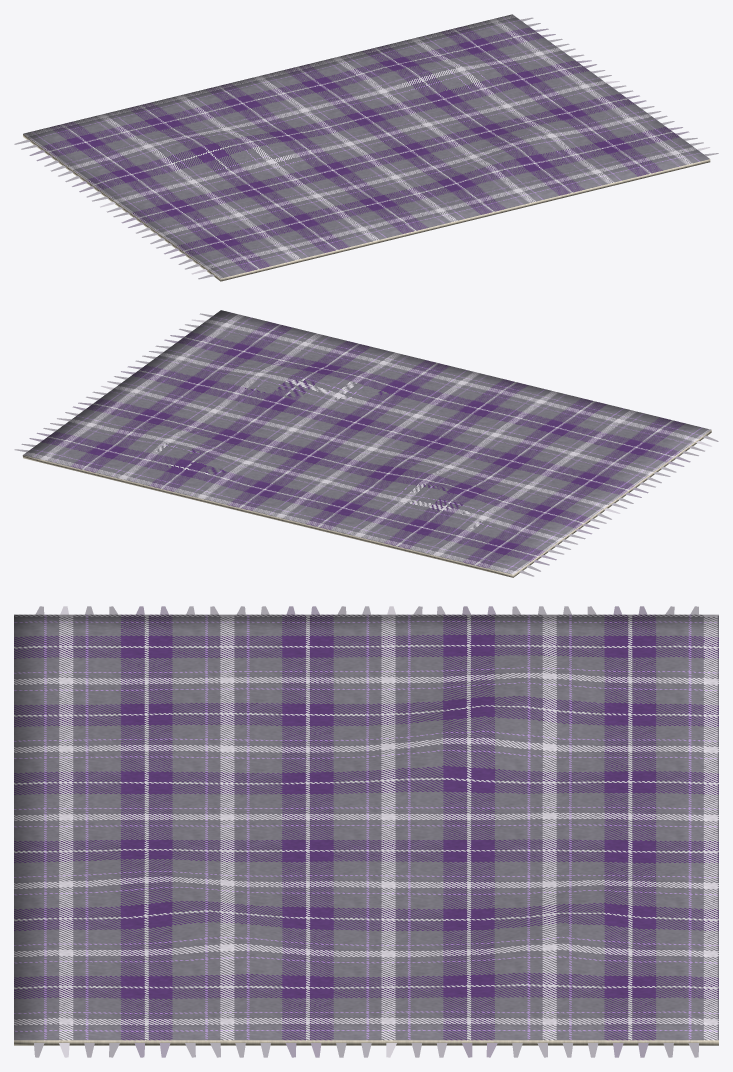
File: blanket_purple.glb
The picture shows the model from 3 angles, top to bottom: view 1: azimuth 30°, elevation 25°; view 2: azimuth 150°, elevation 25°; view 3: azimuth 270°, elevation 25°; orthographic projection. The views are drawn at different scales.
Visible parts, largest first — view 1: blanket; view 2: blanket; view 3: blanket.
Boxes of the visible parts, x1=… form: blanket: x1=14, y1=14, x2=718, y2=281; blanket: x1=14, y1=310, x2=718, y2=577; blanket: x1=14, y1=606, x2=718, y2=1057.
Bounding box in the file's own units: 2.12 × 0.036 × 1.4.
Materials: 3 (3 with a texture image).
